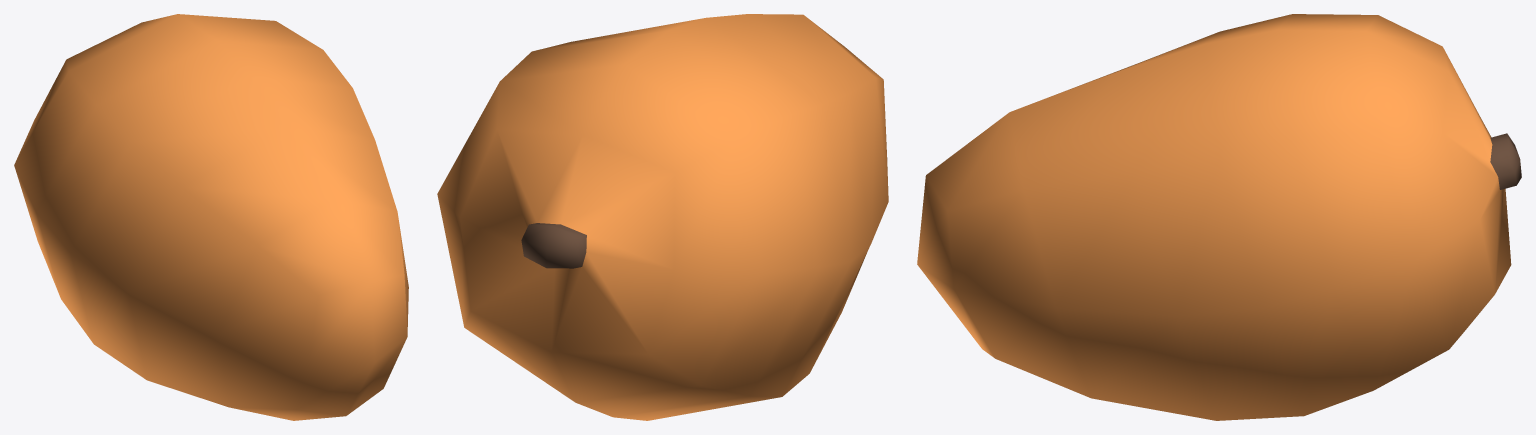
File: mango.fbx
The picture shows the model from 3 angles, left to right: view 1: azimuth 30°, elevation 25°; view 2: azimuth 150°, elevation 25°; view 3: azimuth 270°, elevation 25°; orthographic projection. The views are drawn at different scales.
Visible parts, largest first — view 1: mango; view 2: mango; view 3: mango.
Part boxes in pixels (<box>): mango: <box>14,14,408,420</box>; mango: <box>437,14,888,420</box>; mango: <box>917,14,1521,420</box>.
Size of the model in its own units: 25.13 by 25.96 by 37.04.
